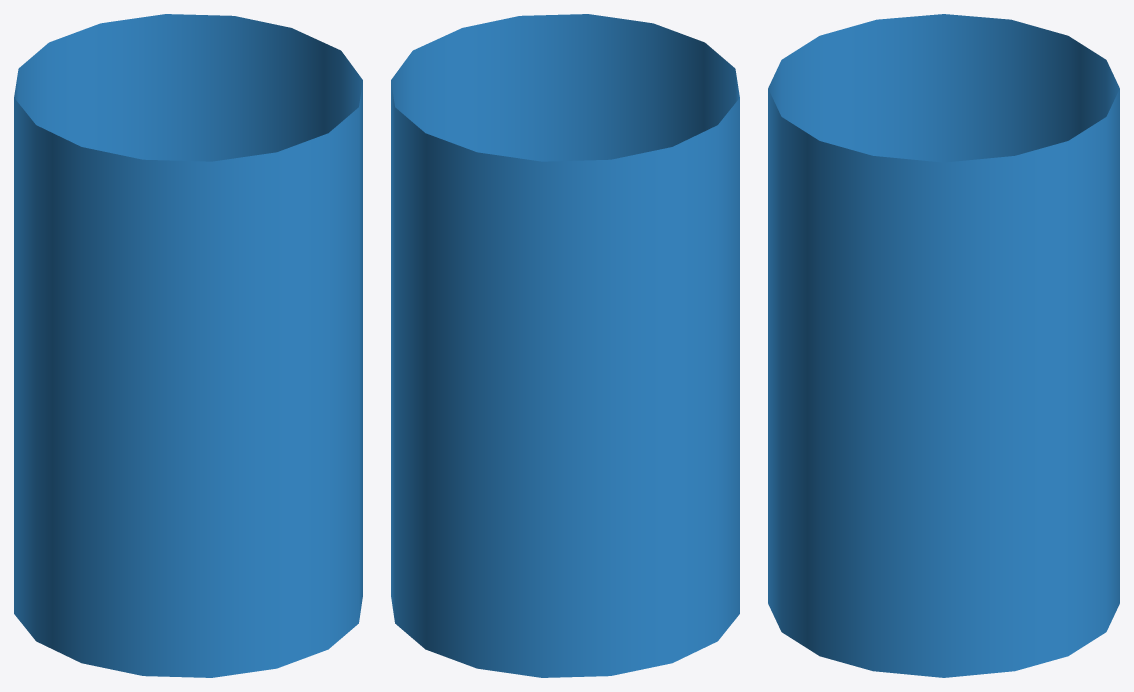
The model's file is Bonk_Sky.fbx.
3 views of the same model, side by side, from view 1: azimuth 30°, elevation 25°; view 2: azimuth 150°, elevation 25°; view 3: azimuth 270°, elevation 25° (orthographic).
Parts seen in each view (by area): view 1: Cylinder.001; view 2: Cylinder.001; view 3: Cylinder.001.
Boxes of the visible parts, box(x1,y1,x2,y2) form: Cylinder.001: box(14, 14, 362, 677); Cylinder.001: box(391, 14, 739, 677); Cylinder.001: box(768, 14, 1119, 677).
Bounding box in the file's own units: 19696 × 31849 × 19702.
